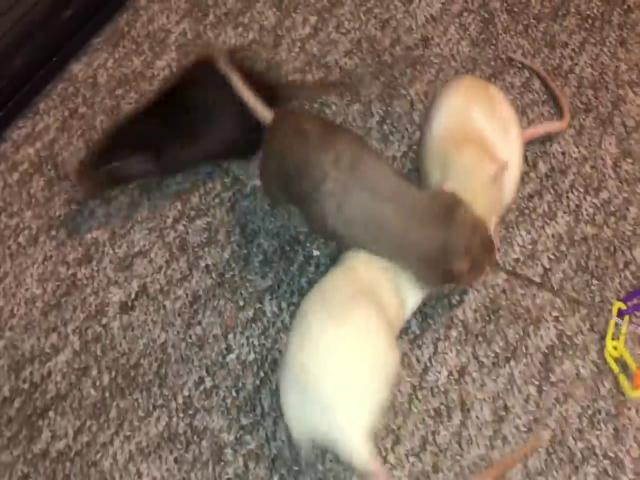Tikus: (261, 100, 497, 297), (275, 246, 431, 465), (74, 47, 268, 199), (419, 72, 526, 243)
